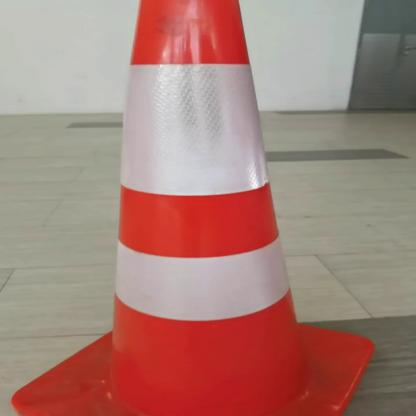cone: (6, 1, 388, 416)
